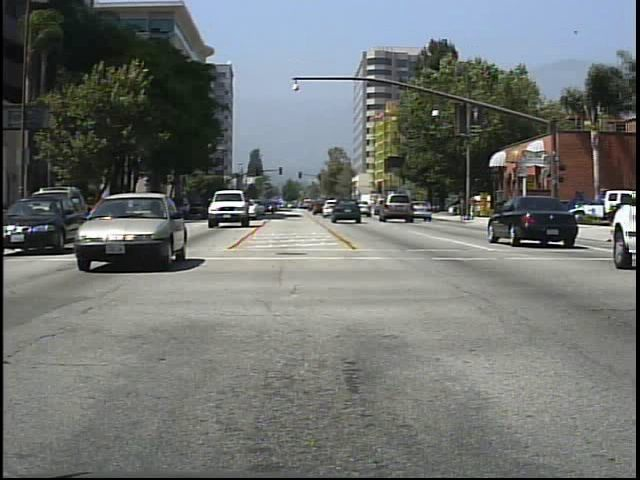person: (508, 192, 528, 231), (469, 192, 481, 224)
